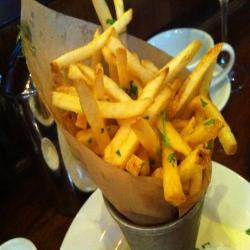fries: (41, 23, 242, 212)
